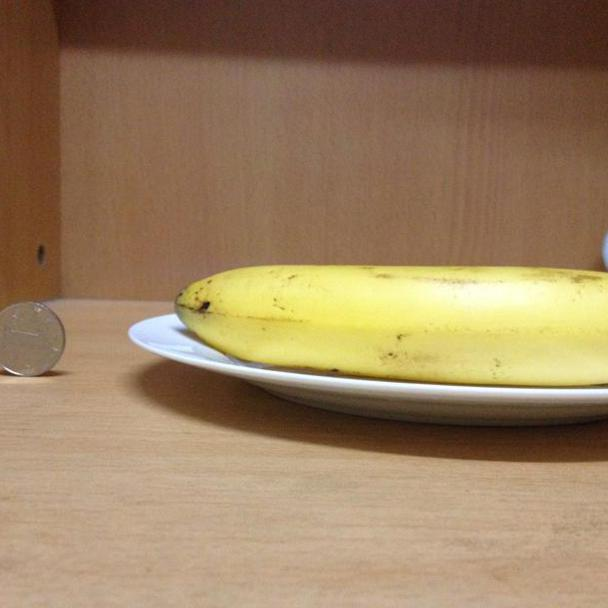banana: (176, 256, 608, 384)
